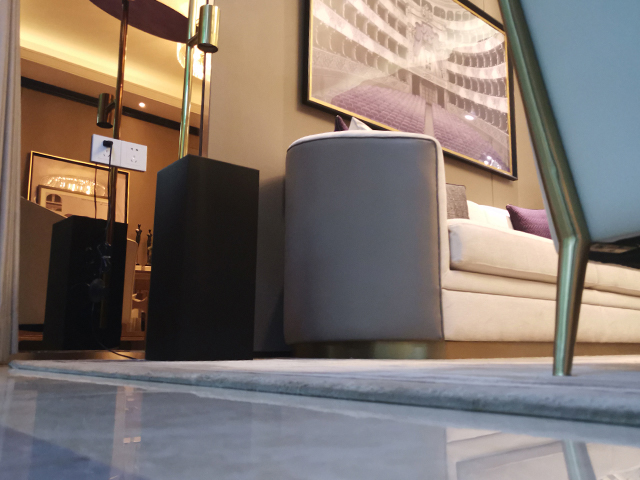carpet: (9, 354, 640, 431)
curtain: (1, 1, 21, 362)
sofa: (283, 114, 640, 360)
wire: (109, 349, 141, 361)
